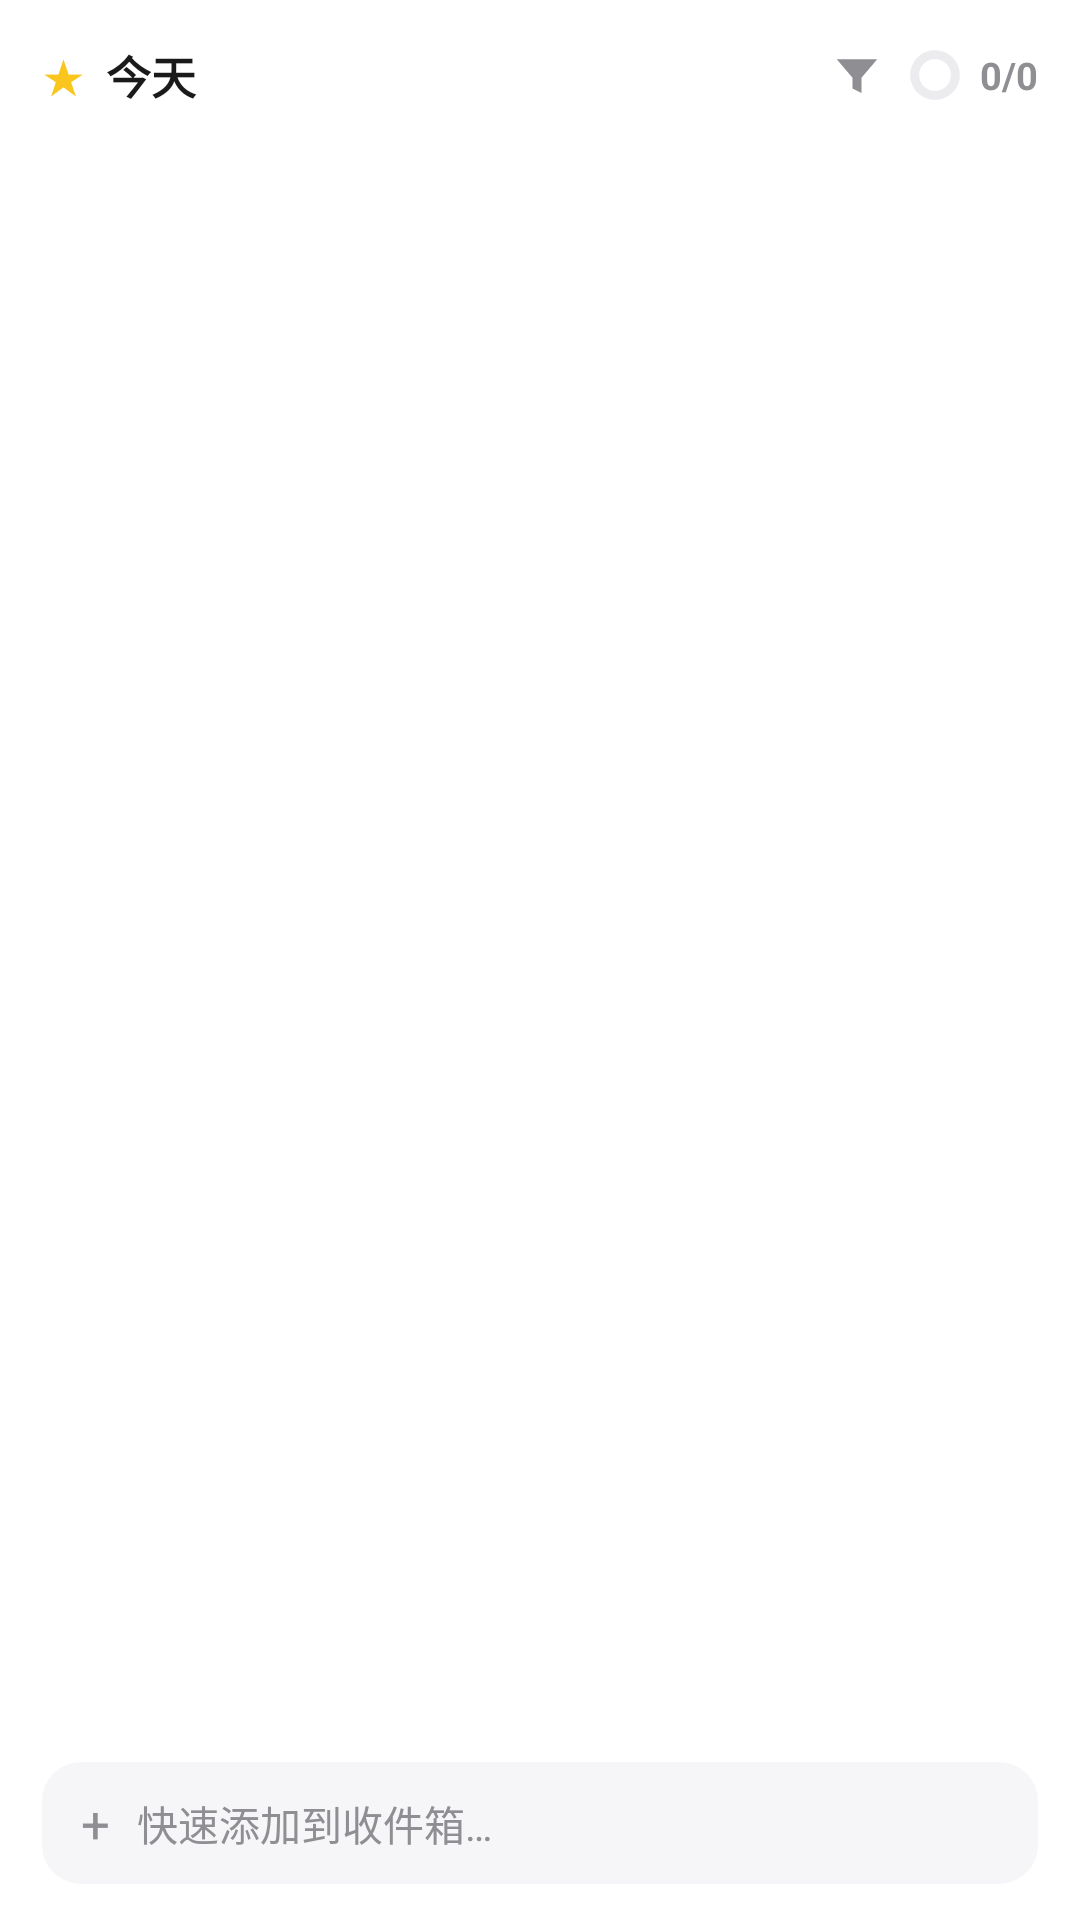

Screen size 1080×1920. Icon name, then its box in pixels as (x1, y1, x2, y2):
按标签筛选: (837, 59, 877, 93)
